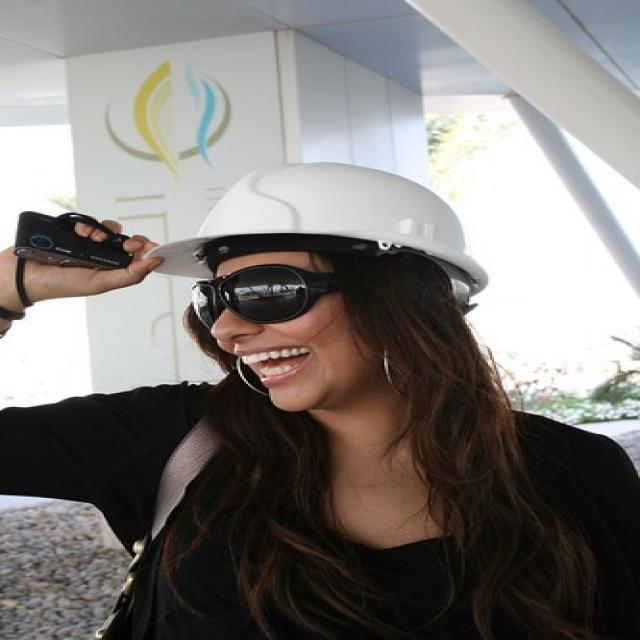Safety-Helmet: (152, 155, 496, 290)
